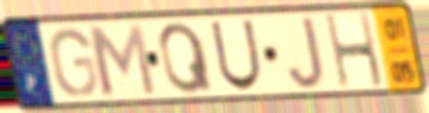G: (47, 25, 100, 100)
H: (322, 11, 387, 91)
J: (285, 13, 327, 92)
M: (83, 21, 160, 99)
Q: (156, 19, 217, 96)
U: (207, 18, 264, 94)
